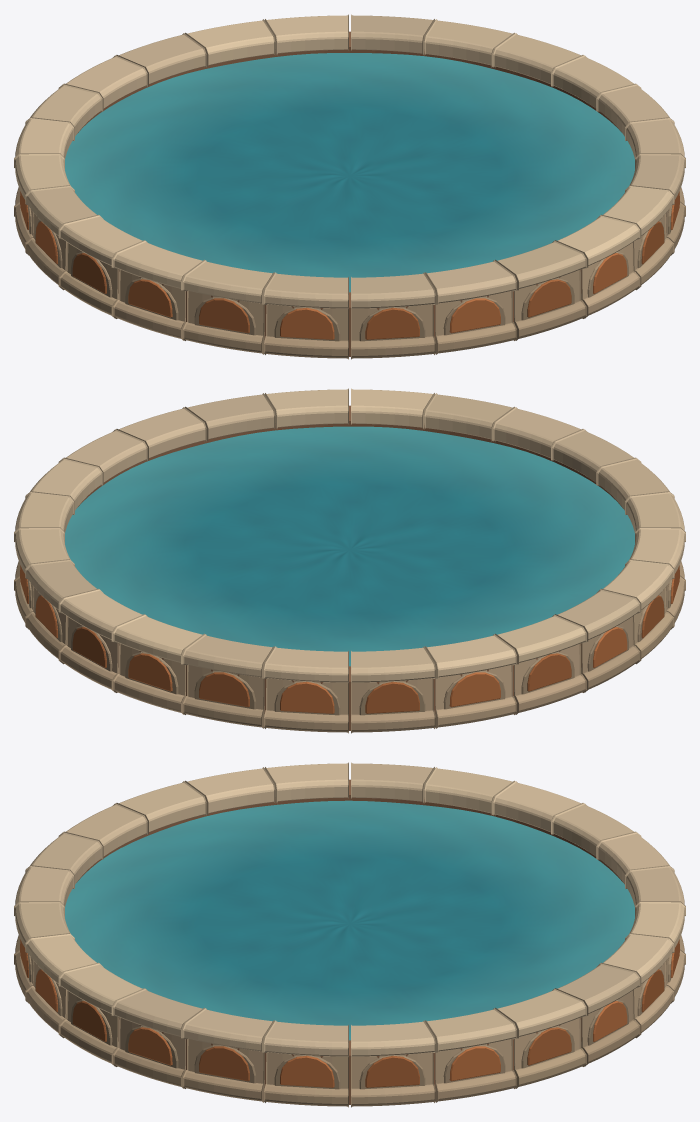
File: wsc-prop-018-basin.glb
3 views of the same model, one above another, from view 1: azimuth 30°, elevation 25°; view 2: azimuth 150°, elevation 25°; view 3: azimuth 270°, elevation 25° (orthographic).
Parts seen in each view (by area): view 1: wsc-prop-018-basin; view 2: wsc-prop-018-basin; view 3: wsc-prop-018-basin.
Part boxes in pixels (box(x1,y1,x2,y2)): wsc-prop-018-basin: box(14, 14, 685, 359); wsc-prop-018-basin: box(14, 388, 685, 733); wsc-prop-018-basin: box(14, 762, 685, 1107).
Bounding box in the file's own units: 8.53 × 0.926 × 8.53.
